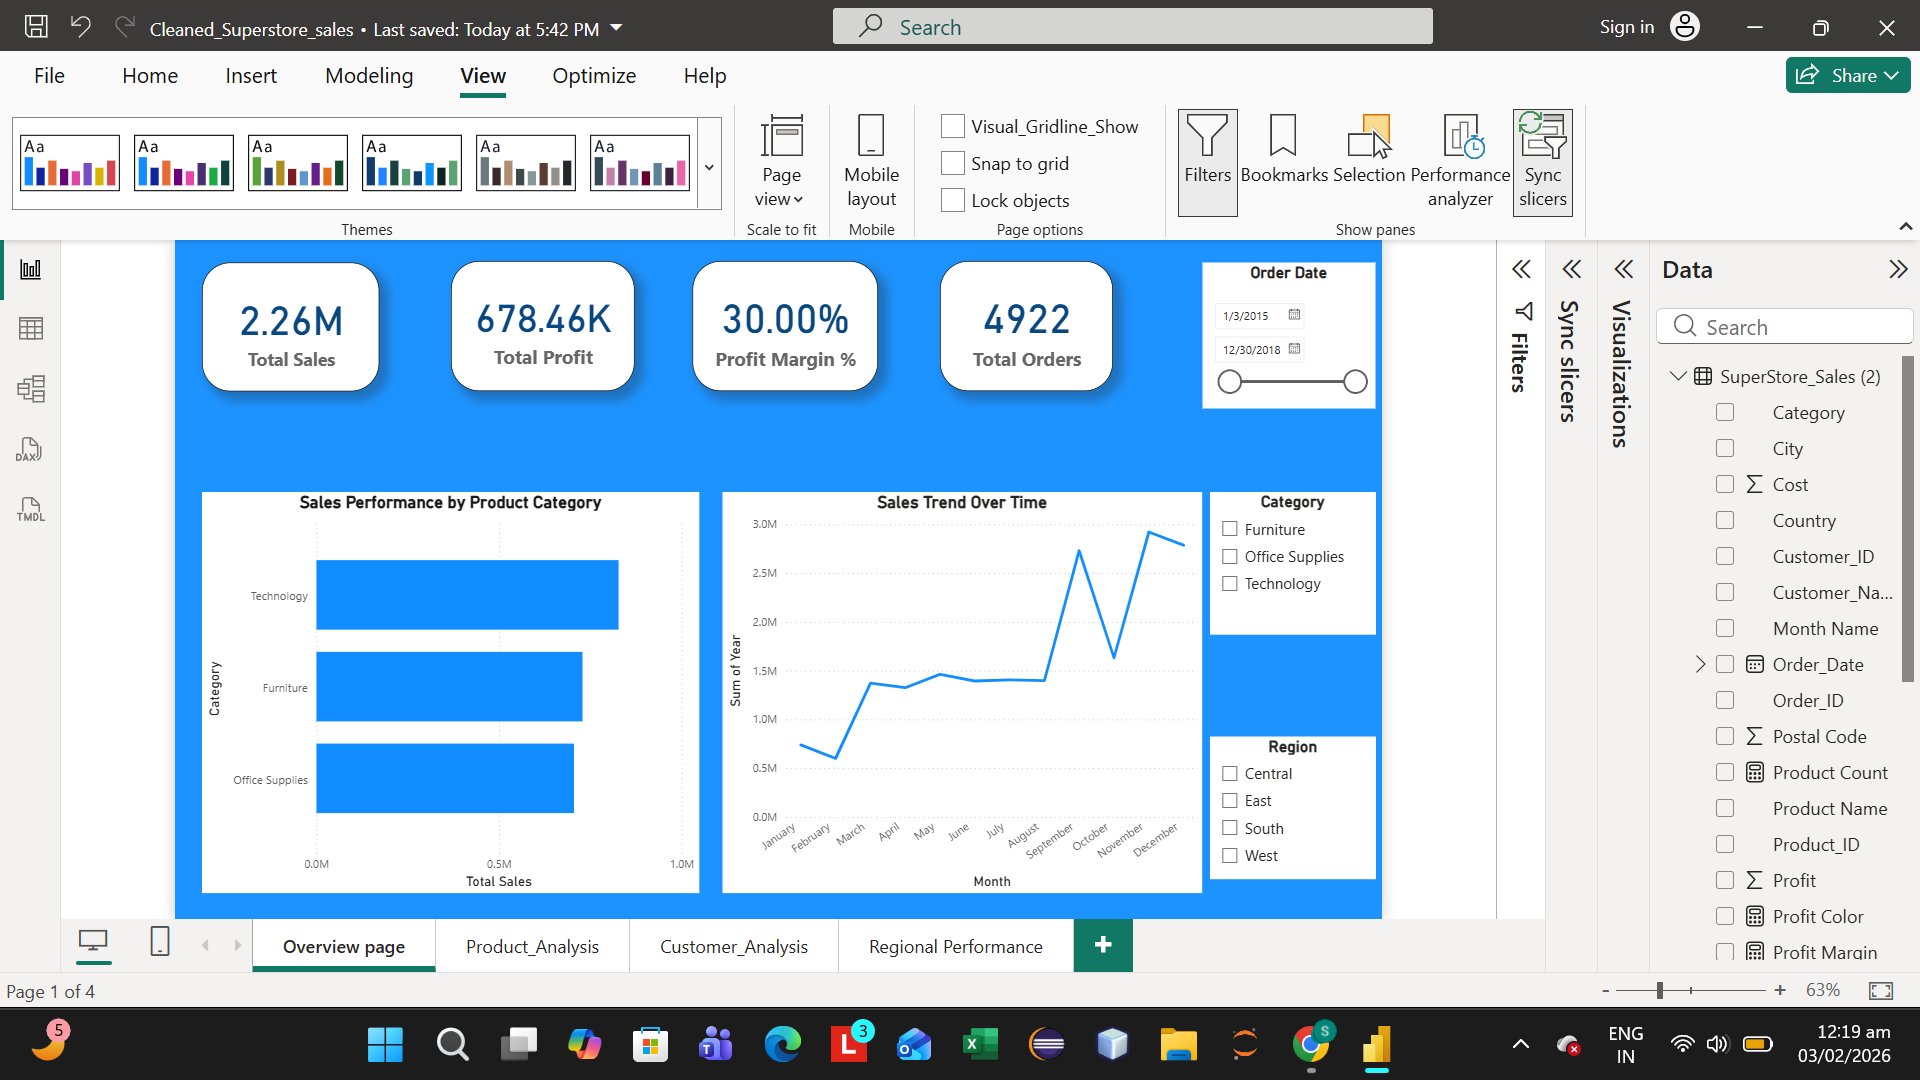

This screenshot's page, from the dashboard's own definition file:
{"tool":"powerbi","page":{"name":"Overview page","canvas":[1280,720],"ordinal":0},"visuals":[{"type":"card","fields":{"Values":["SuperStore_Sales (2).Total Sales"]},"box":[28.3,23.2,188.1,136.6],"z":0},{"type":"card","fields":{"Values":["SuperStore_Sales (2).Total Profit"]},"box":[292.9,22.7,194.6,138],"z":1000},{"type":"card","fields":{"Values":["SuperStore_Sales (2).Total Orders"]},"box":[810.7,22.7,183.3,138],"z":2000},{"type":"clusteredBarChart","title":"Sales Performance by Product Category","fields":{"Category":["SuperStore_Sales (2).Category"],"Y":["SuperStore_Sales (2).Total Sales"]},"box":[28.3,266.5,527.2,425.2],"z":3000},{"type":"lineChart","title":"Sales Trend Over Time","fields":{"Category":["SuperStore_Sales (2).Order_Date.Variation.Date Hierarchy.Month"],"Y":["Sum(SuperStore_Sales (2).Year)"]},"box":[580.2,266.5,508.4,425.2],"z":4000},{"type":"card","fields":{"Values":["SuperStore_Sales (2).Profit Margin %"]},"box":[548,22.7,196.5,138],"z":5001},{"type":"slicer","title":"Order Date","fields":{"Values":["SuperStore_Sales (2).Order_Date"]},"box":[1089.6,23.9,182.9,154.3],"z":5002},{"type":"slicer","title":"Region","fields":{"Values":["SuperStore_Sales (2).Region"]},"box":[1098,527.2,175.7,151.2],"z":5003},{"type":"slicer","title":"Category","fields":{"Values":["SuperStore_Sales (2).Category"]},"box":[1098,266.5,175.7,151.2],"z":5004}]}

Visuals, with their boxes on the page's 1280x720 design canvas (x1, y1, x2, y2). These are canvas units, not pixel positions in the 1920x1080 screenshot, which may show the page scaled, cropped or inside an application window:
card - SuperStore_Sales (2).Total Sales: box(28, 23, 216, 160)
card - SuperStore_Sales (2).Total Profit: box(293, 23, 488, 161)
card - SuperStore_Sales (2).Total Orders: box(811, 23, 994, 161)
"Sales Performance by Product Category" clusteredBarChart: box(28, 266, 556, 692)
"Sales Trend Over Time" lineChart: box(580, 266, 1089, 692)
card - SuperStore_Sales (2).Profit Margin %: box(548, 23, 744, 161)
"Order Date" slicer: box(1090, 24, 1272, 178)
"Region" slicer: box(1098, 527, 1274, 678)
"Category" slicer: box(1098, 266, 1274, 418)
